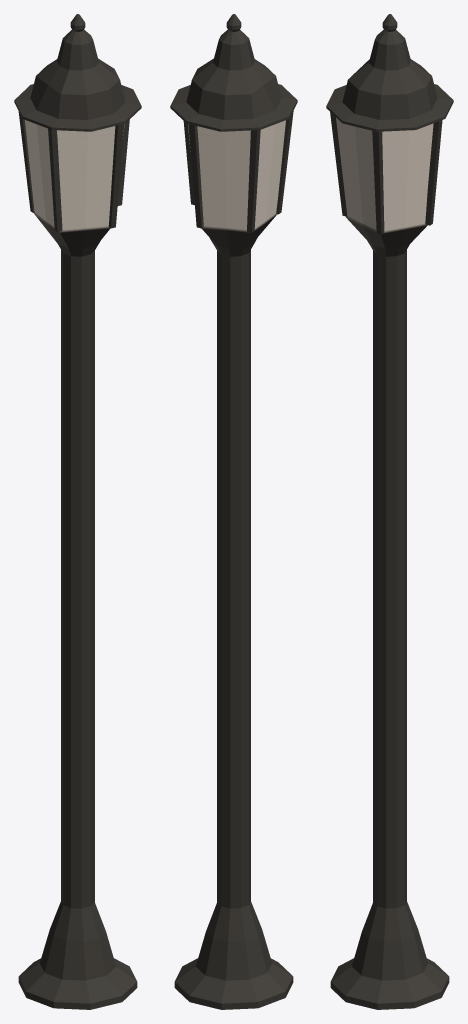
Rendered from lamppost.fbx.
3 renders of one model, left to right at view 1: azimuth 30°, elevation 25°; view 2: azimuth 150°, elevation 25°; view 3: azimuth 330°, elevation 25°, orthographic.
Visible parts, largest first — view 1: Lamppost; view 2: Lamppost; view 3: Lamppost.
Part boxes in pixels (left/top/right/bottom): Lamppost: left=14, top=14, right=141, bottom=1009; Lamppost: left=170, top=14, right=297, bottom=1009; Lamppost: left=326, top=14, right=453, bottom=1009.
Size of the model in its own units: 2.51 by 21.05 by 2.39.
Materials: 1 (1 with a texture image).
